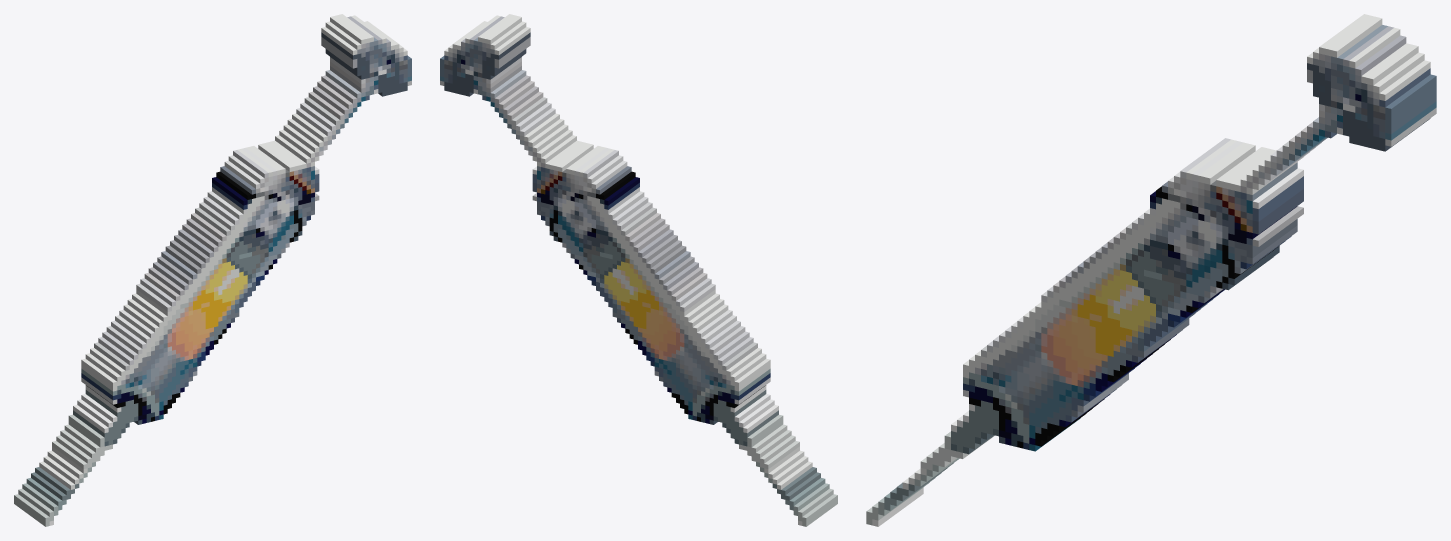
File: syringe.fbx
3 views of the same model, side by side, from view 1: azimuth 30°, elevation 25°; view 2: azimuth 150°, elevation 25°; view 3: azimuth 330°, elevation 25° (orthographic). The views are drawn at different scales.
Visible parts, largest first — view 1: syringe.png; view 2: syringe.png; view 3: syringe.png.
Boxes of the visible parts, x1=… form: syringe.png: x1=14, y1=14, x2=411, y2=526; syringe.png: x1=440, y1=14, x2=837, y2=526; syringe.png: x1=866, y1=14, x2=1436, y2=526.
Bounding box in the file's own units: 46.94 × 50.18 × 7.
